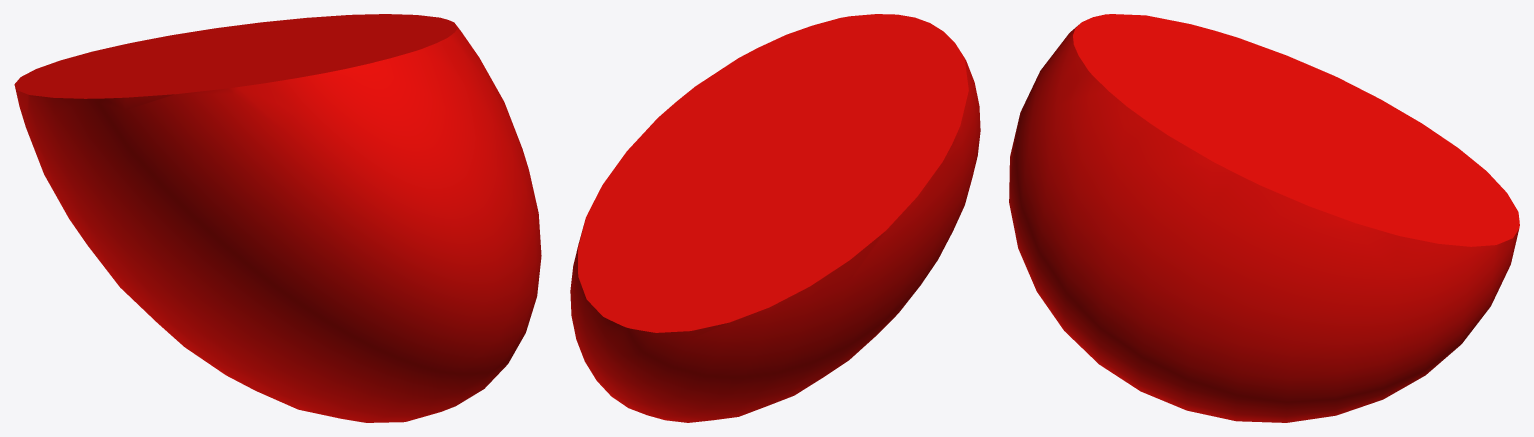
Rendered from eyes.fbx.
3 renders of one model, left to right at view 1: azimuth 30°, elevation 25°; view 2: azimuth 150°, elevation 25°; view 3: azimuth 270°, elevation 25°, orthographic. The views are drawn at different scales.
Visible parts, largest first — view 1: Sphere; view 2: Sphere; view 3: Sphere.
Boxes of the visible parts, <box> form: Sphere: <box>14,14,541,422</box>; Sphere: <box>570,14,980,422</box>; Sphere: <box>1009,14,1519,422</box>.
Bounding box in the file's own units: 137 × 141 × 199.
